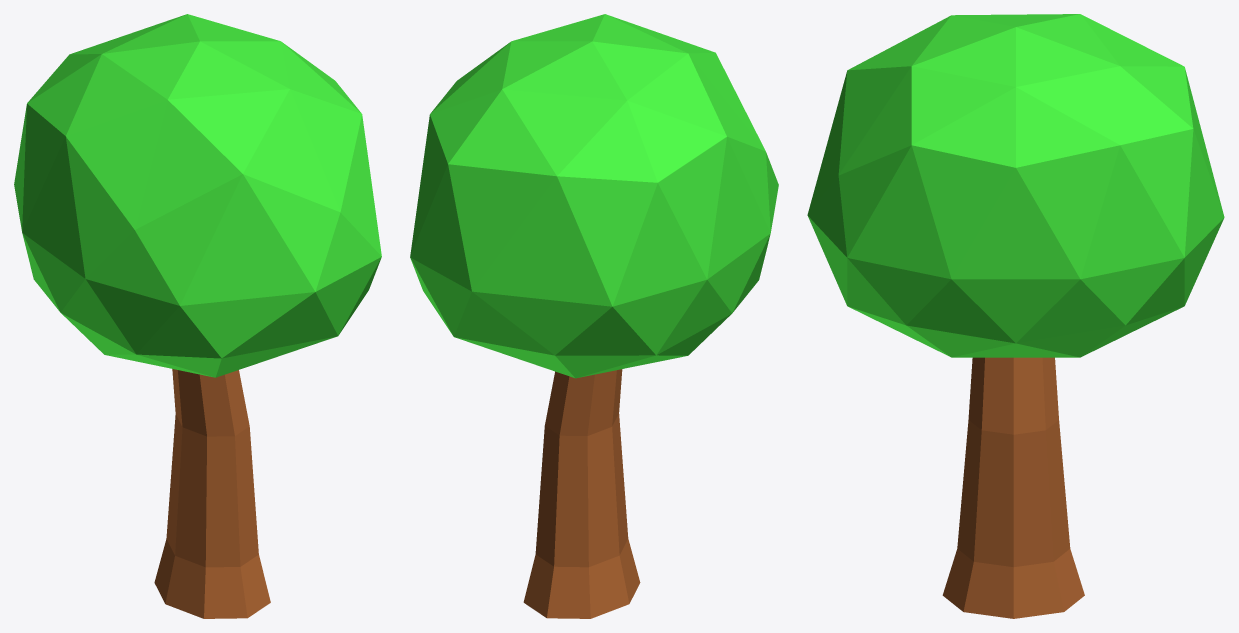
File: tree_01.glb
3 renders of one model, left to right at view 1: azimuth 30°, elevation 25°; view 2: azimuth 150°, elevation 25°; view 3: azimuth 270°, elevation 25°, orthographic.
Visible parts, largest first — view 1: Leaf_1, Trunk_1; view 2: Leaf_1, Trunk_1; view 3: Leaf_1, Trunk_1.
Part boxes in pixels (bbox=[...]): Leaf_1: bbox=[14, 14, 381, 377]; Trunk_1: bbox=[154, 369, 270, 618]; Leaf_1: bbox=[410, 14, 778, 378]; Trunk_1: bbox=[523, 369, 640, 618]; Leaf_1: bbox=[807, 14, 1224, 357]; Trunk_1: bbox=[942, 357, 1084, 618].
Bounding box in the file's own units: 2.73 × 5 × 3.36.
1 material, 1 textured.
